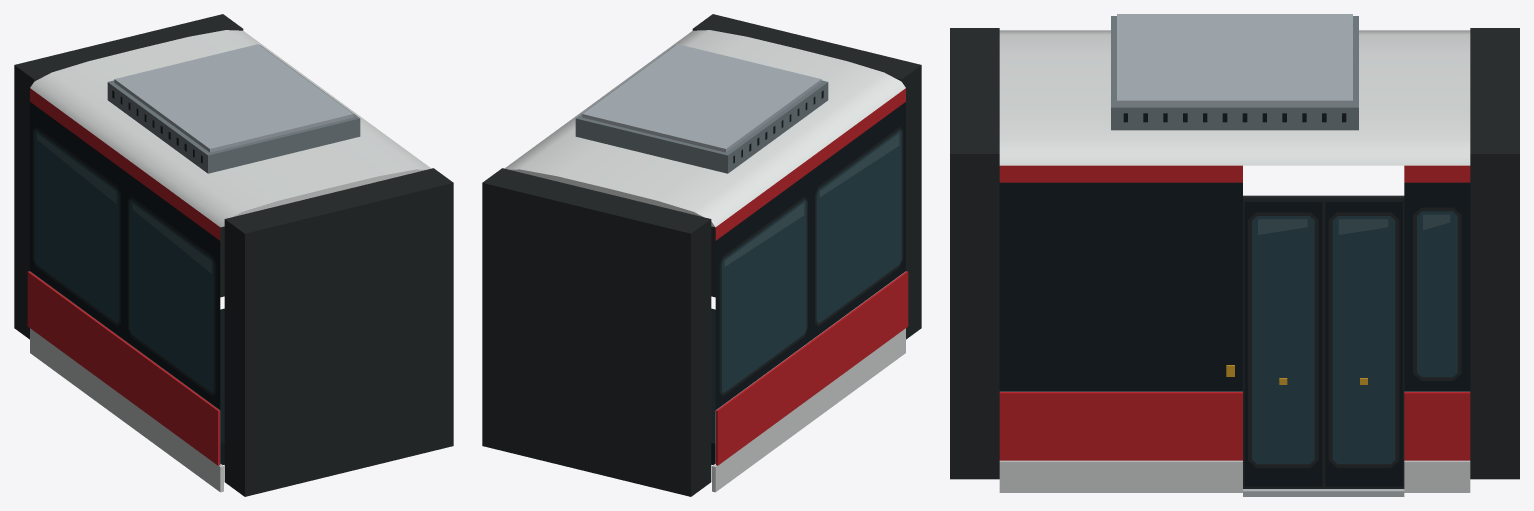
File: 52t-c-viewer.glb
3 views of the same model, side by side, from view 1: azimuth 30°, elevation 25°; view 2: azimuth 150°, elevation 25°; view 3: azimuth 270°, elevation 25° (orthographic). The views are drawn at different scales.
Visible parts, largest first — view 1: 52t-c; view 2: 52t-c; view 3: 52t-c, 52t-c-door-1--0.715-1, 52t-c-door-1--0.715-0.
Part boxes in pixels (<box>): 52t-c: <box>14,14,453,496</box>; 52t-c: <box>482,14,921,496</box>; 52t-c: <box>950,14,1519,496</box>; 52t-c-door-1--0.715-1: <box>1244,201,1322,486</box>; 52t-c-door-1--0.715-0: <box>1325,201,1402,486</box>.
Size of the model in its own units: 2.62 by 3.29 by 4.59.
